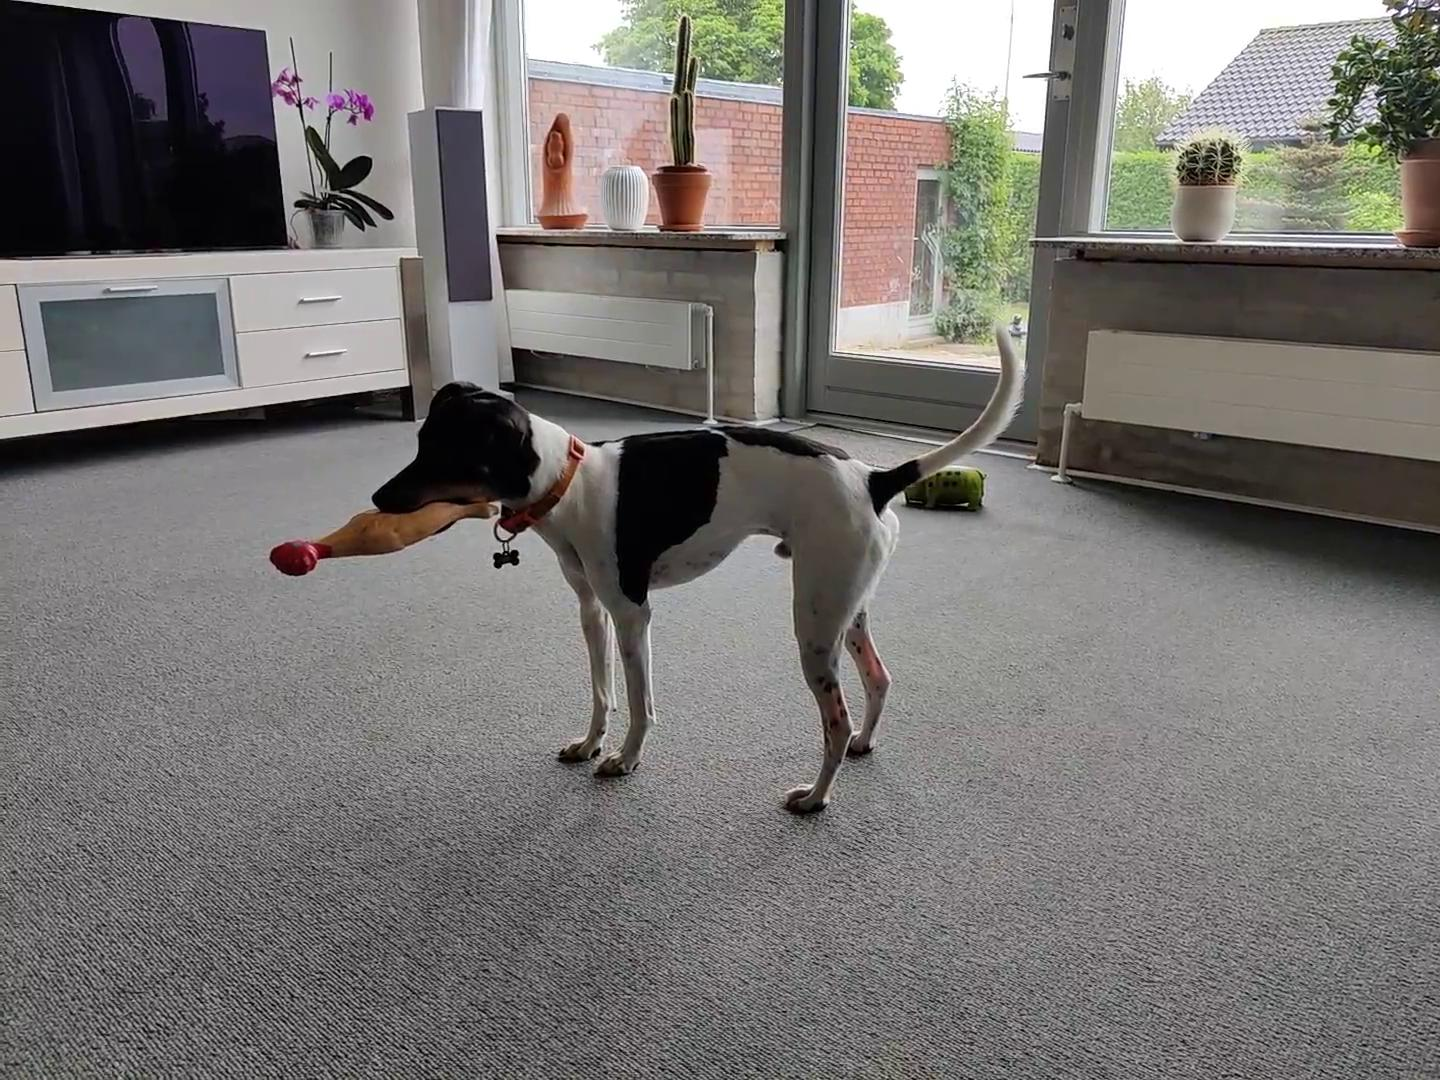Dog: (366, 318, 1023, 820)
